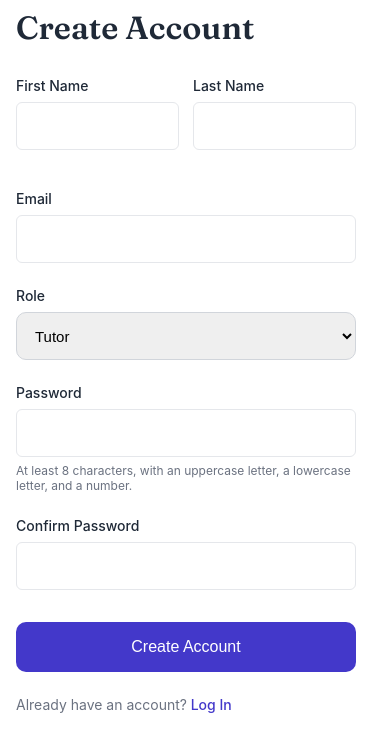
Test case: FE-19b an error from the server is shown
In the field below "First Name": (98,126) [16, 102, 179, 150], type "Ann"
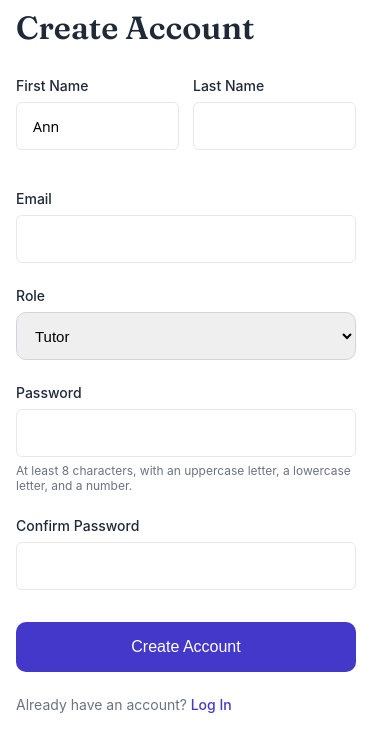
In the field below "Last Name": (274,126) [193, 102, 356, 150], type "Lee"
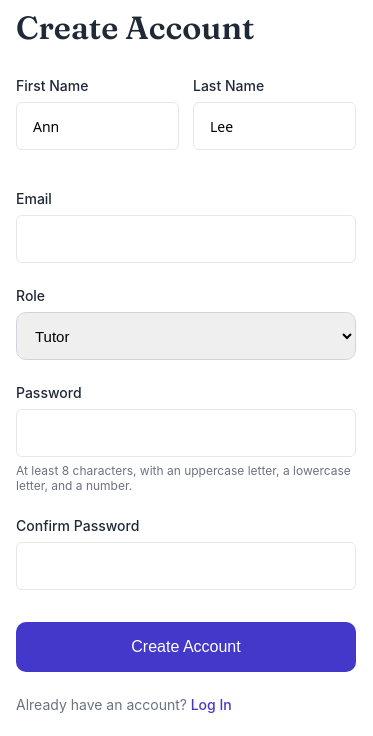
In the field below "Email": (186,239) [16, 215, 356, 263], type "ann@uni.test"
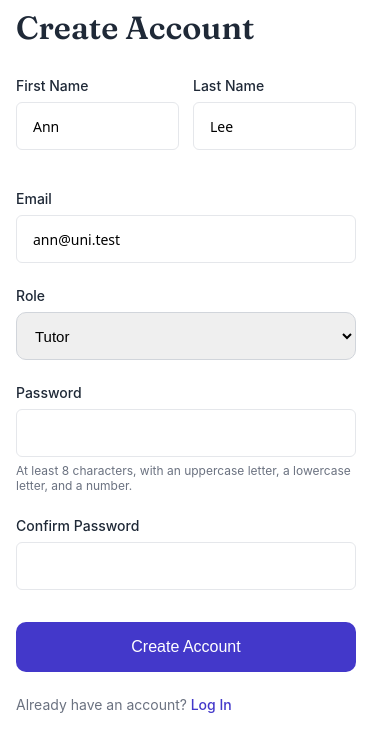
In the 1st password field: (186,433) [16, 409, 356, 457], type "Secret12"
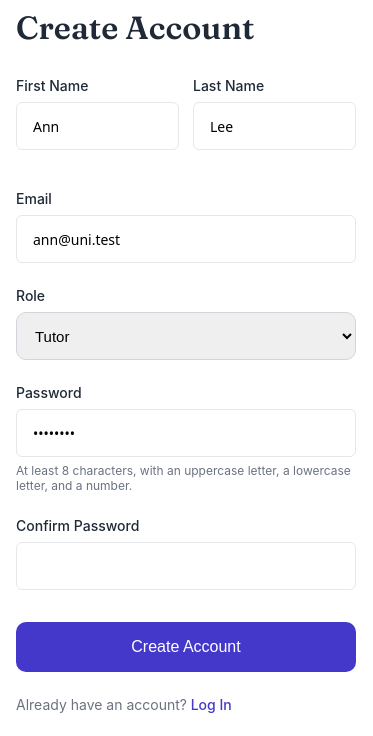
In the password field below "Confirm Password": (186,566) [16, 542, 356, 590], type "Secret12"
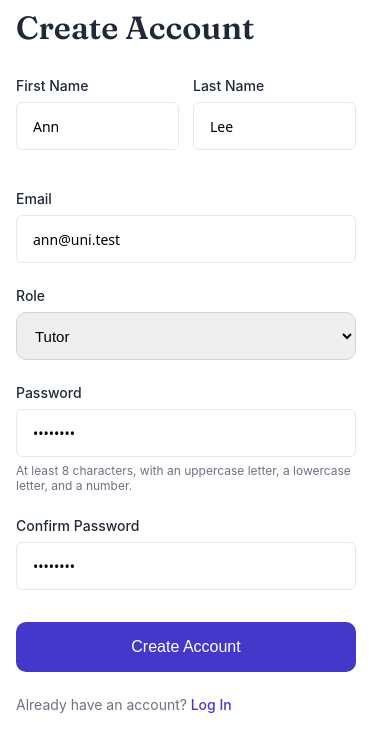
Click the button "Create Account": (186,647) [16, 622, 356, 672]
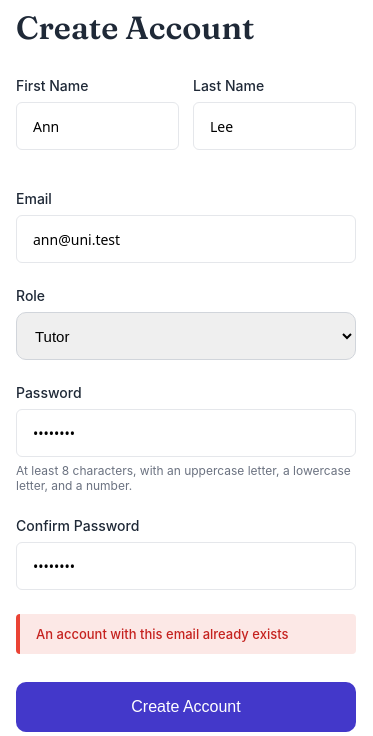
Expected: the text "An account with this email already exists" is shown, [16, 614, 356, 654]
